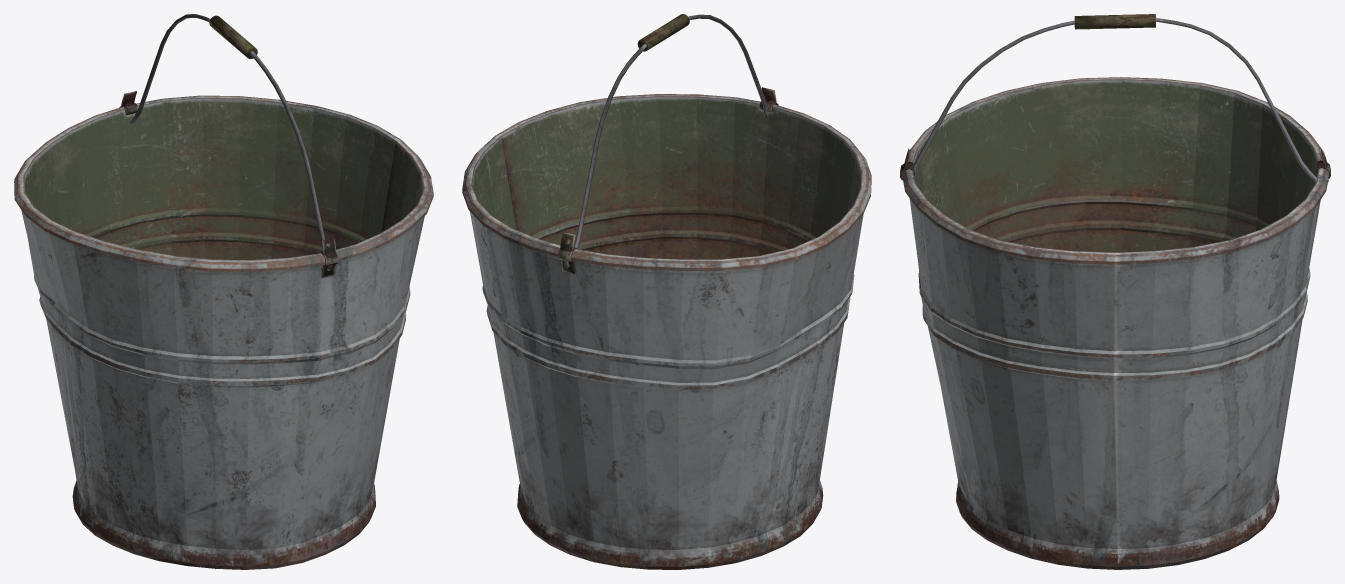
The model's file is BucketModel_02.fbx.
3 views of the same model, side by side, from view 1: azimuth 30°, elevation 25°; view 2: azimuth 150°, elevation 25°; view 3: azimuth 270°, elevation 25° (orthographic). The views are drawn at different scales.
Parts seen in each view (by area): view 1: BucketModel, BucketHand; view 2: BucketModel, BucketHand; view 3: BucketModel, BucketHand.
Boxes of the visible parts, x1,y1,x2,y2 form: BucketModel: [14, 95, 433, 569]; BucketHand: [119, 14, 338, 278]; BucketModel: [462, 94, 871, 569]; BucketHand: [558, 14, 778, 273]; BucketModel: [902, 77, 1329, 569]; BucketHand: [900, 14, 1330, 181].
Bounding box in the file's own units: 69.27 × 88.23 × 69.61.
